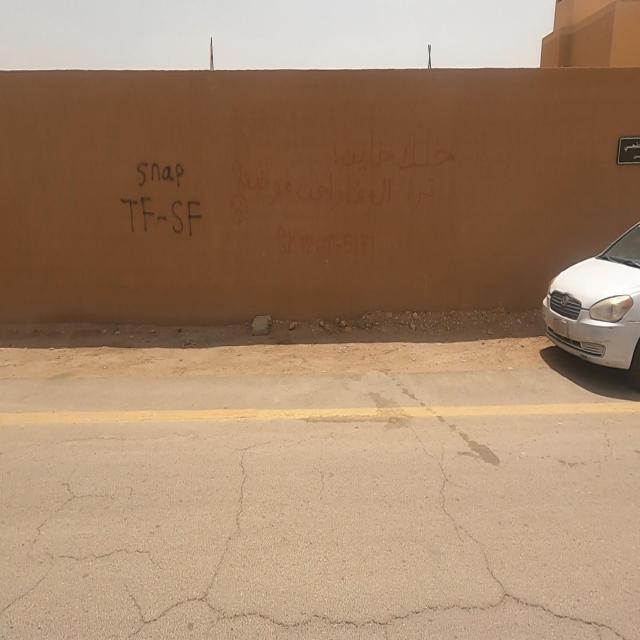Graffiti: (229, 130, 454, 255), (121, 161, 204, 235)
